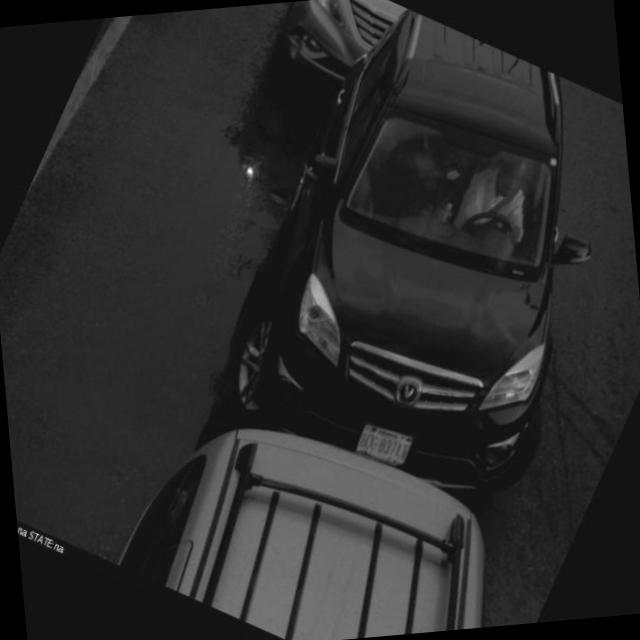person_with_seatbelt: (442, 136, 557, 262)
